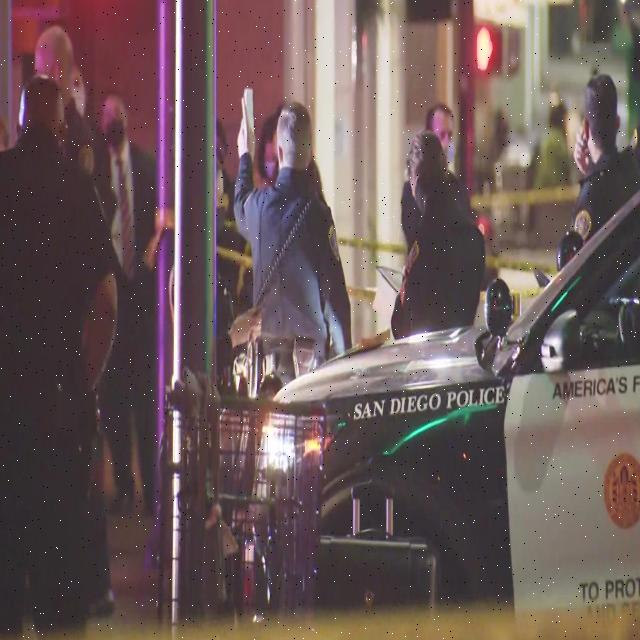police: (0, 76, 117, 640), (221, 90, 373, 418), (516, 68, 640, 333), (383, 127, 481, 367)
